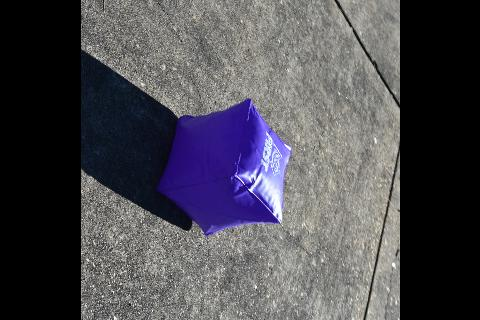cube: (155, 98, 291, 236)
